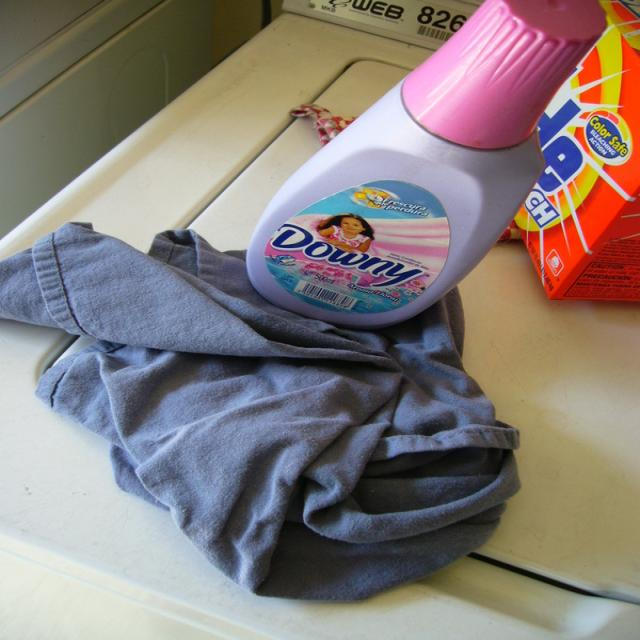bottle: (248, 0, 605, 327)
